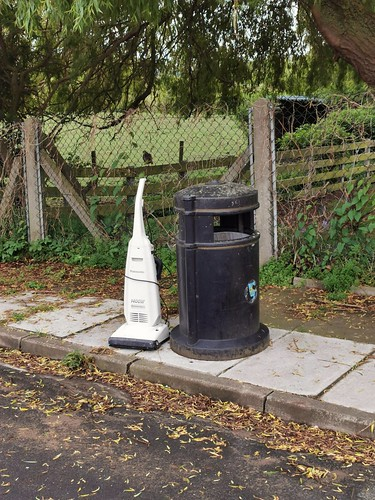sidewalk: (10, 269, 375, 420)
trash can: (171, 181, 277, 361)
vegetation: (1, 1, 349, 271)
